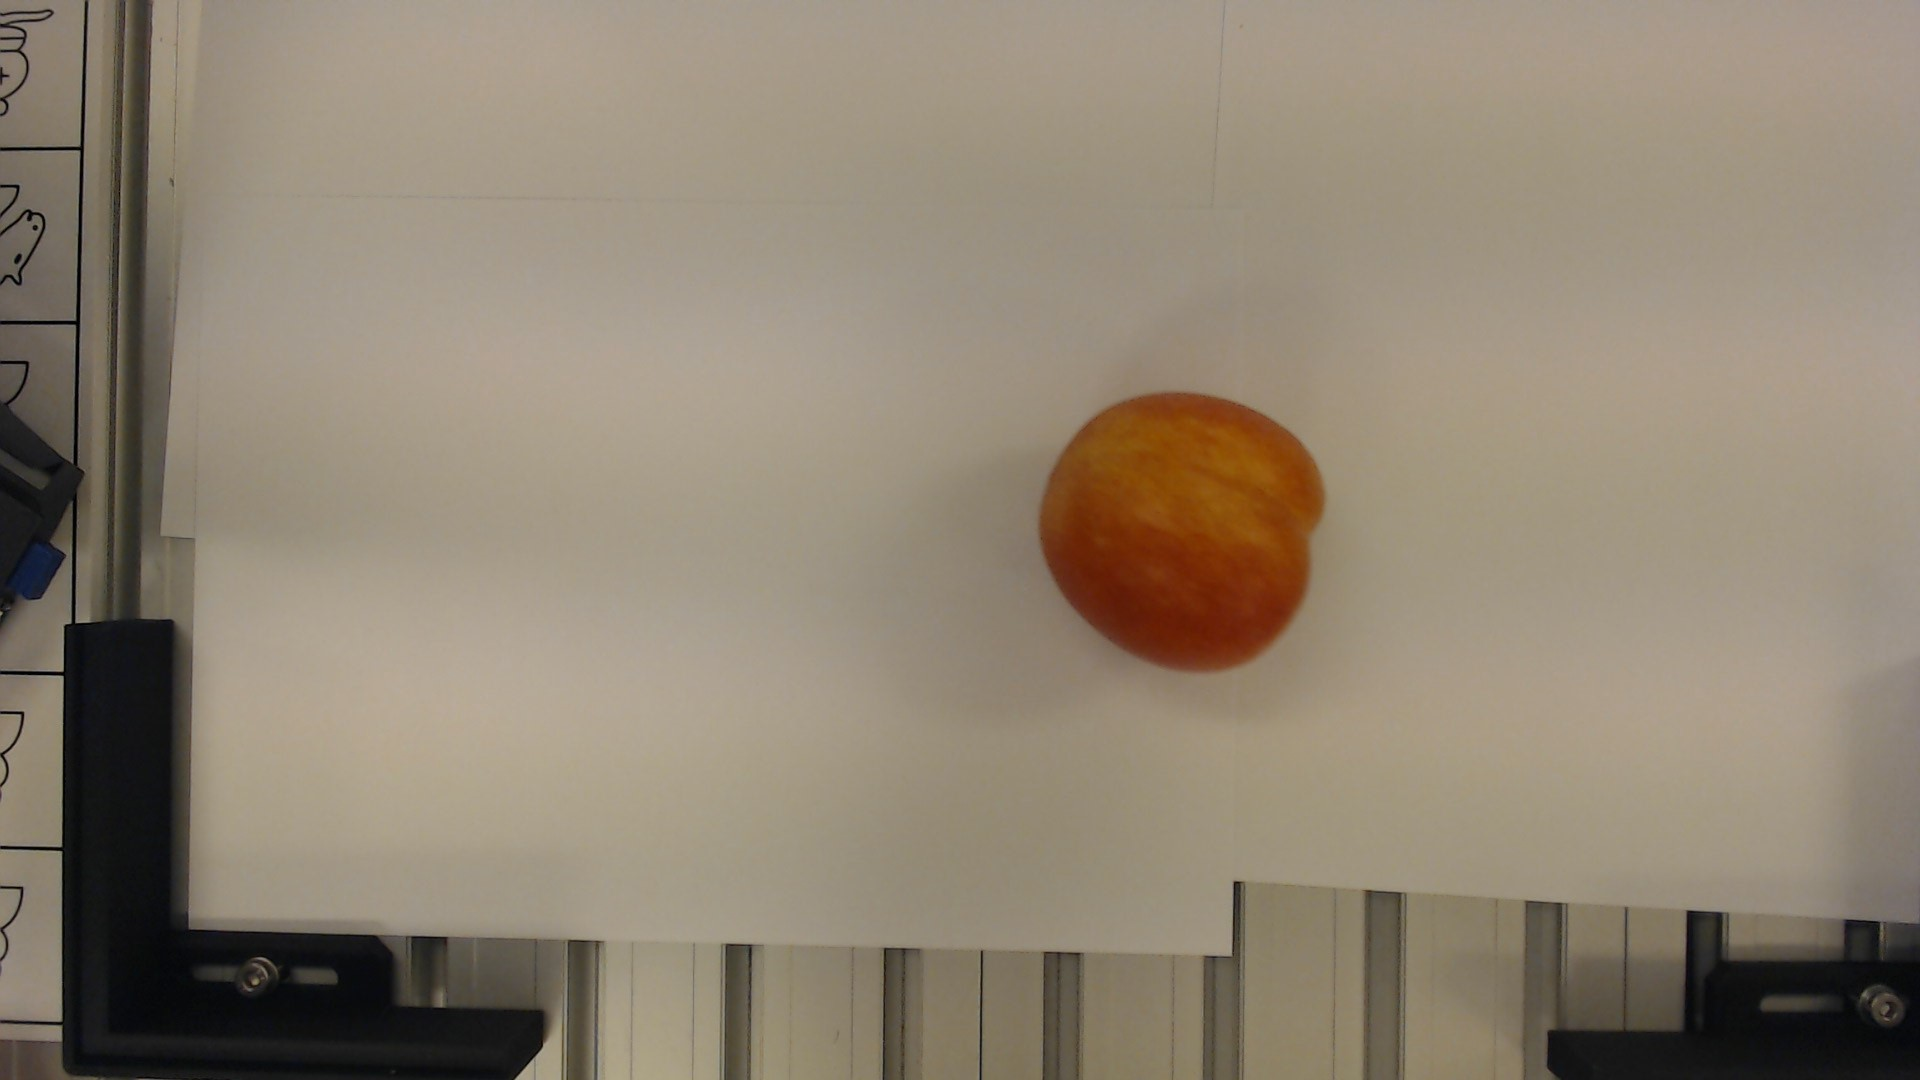Peach: (1035, 389, 1331, 676)
